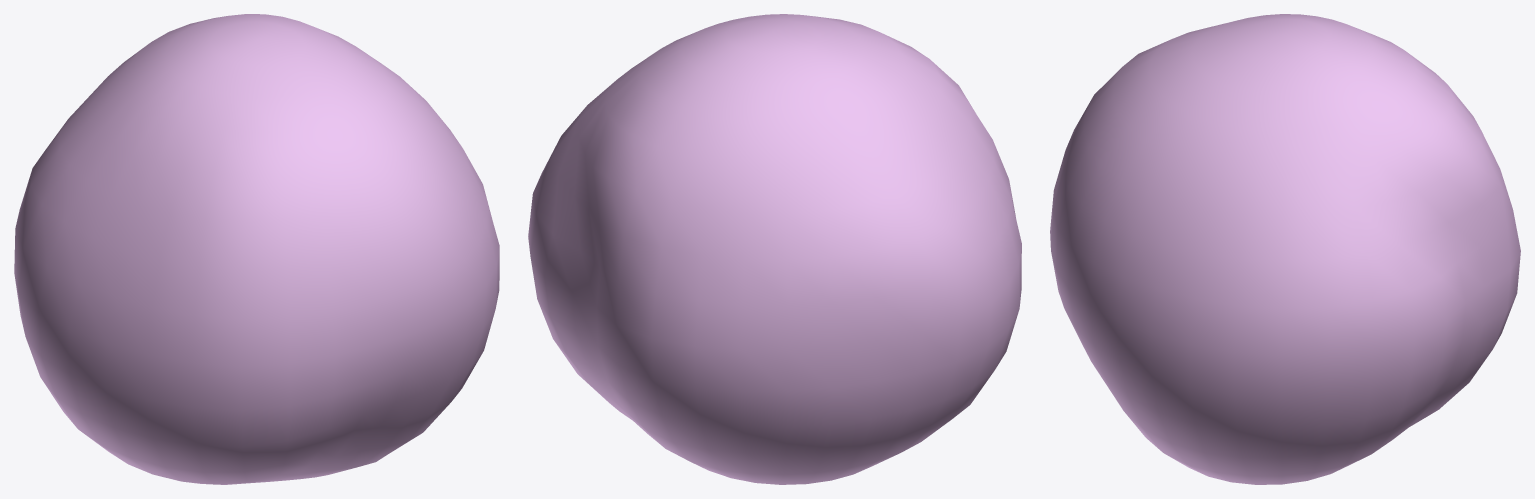
File: wibbly wobbly.fbx
3 renders of one model, left to right at view 1: azimuth 30°, elevation 25°; view 2: azimuth 150°, elevation 25°; view 3: azimuth 270°, elevation 25°, orthographic.
Visible parts, largest first — view 1: Sphere; view 2: Sphere; view 3: Sphere.
Part boxes in pixels (box(x1,y1,x2,y2)): Sphere: box(14, 14, 499, 484); Sphere: box(528, 14, 1021, 484); Sphere: box(1050, 14, 1520, 484).
Bounding box in the file's own units: 201 × 185 × 190.
